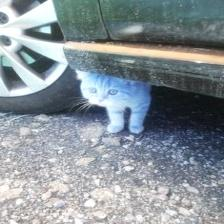kedo: (77, 69, 152, 132)
